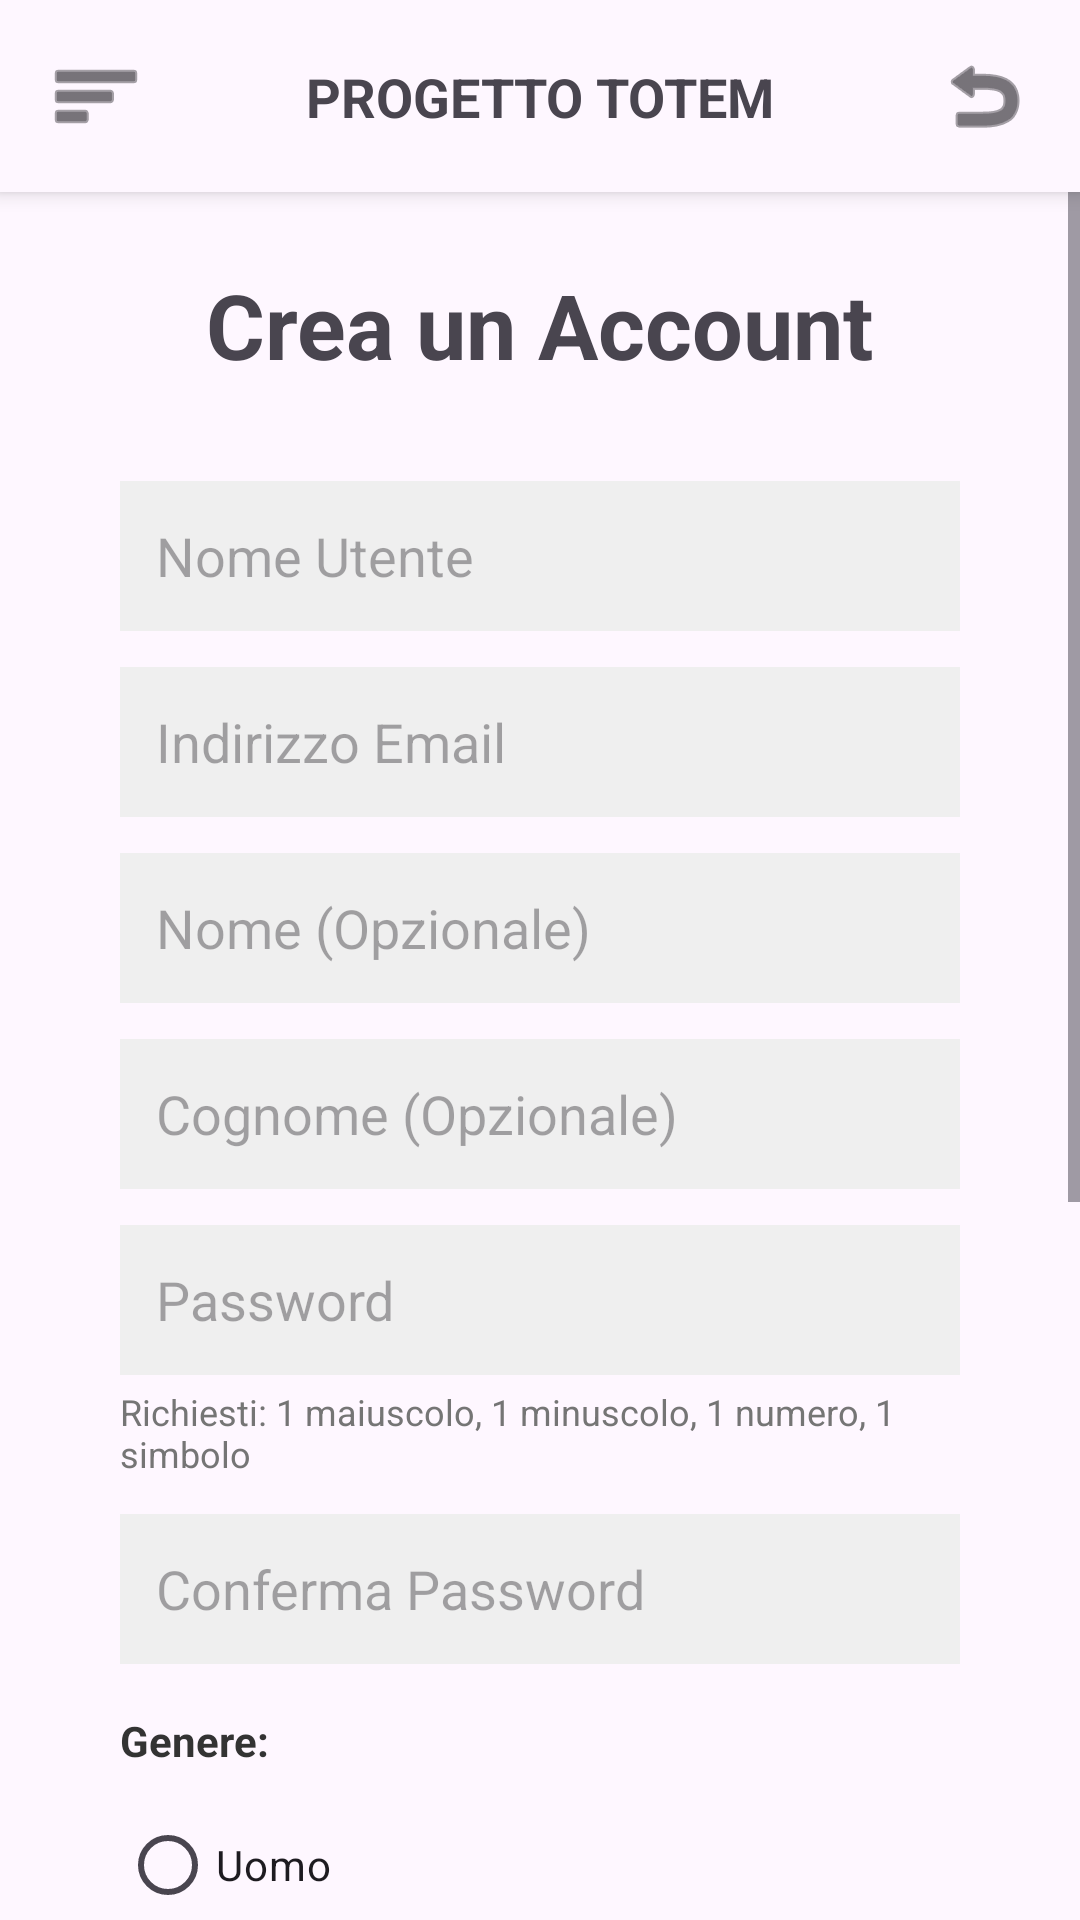

Point at icon controls on the screen. Image size 1080 × 1920, points as (x,y).
Indietro: (985,96)
Menu: (96,96)
